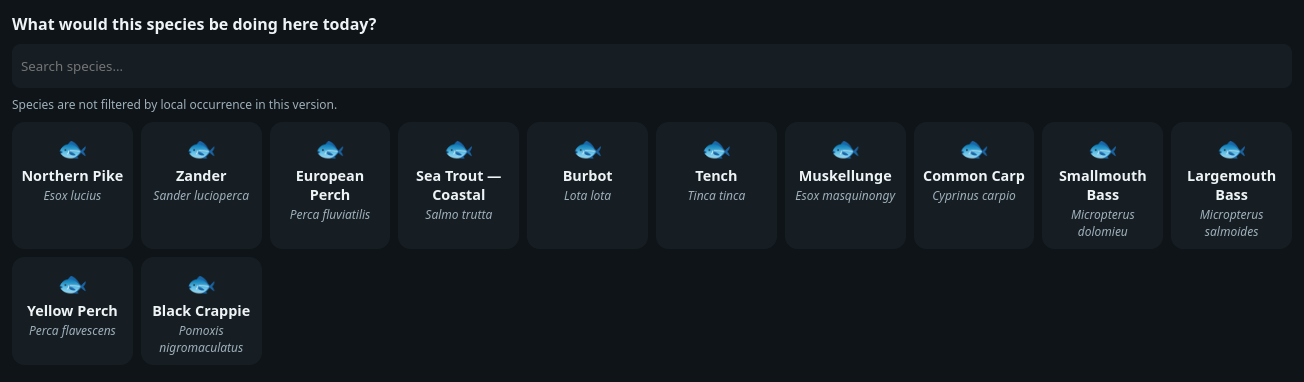
it: SpeciesCatalog › shows an empty state for a query matching nothing
The width and height of the screenshot is (1304, 382).
Type "nonexistent-fish-xyz" into the search field labelled "Search species" at [652, 66], box [12, 44, 1292, 88]
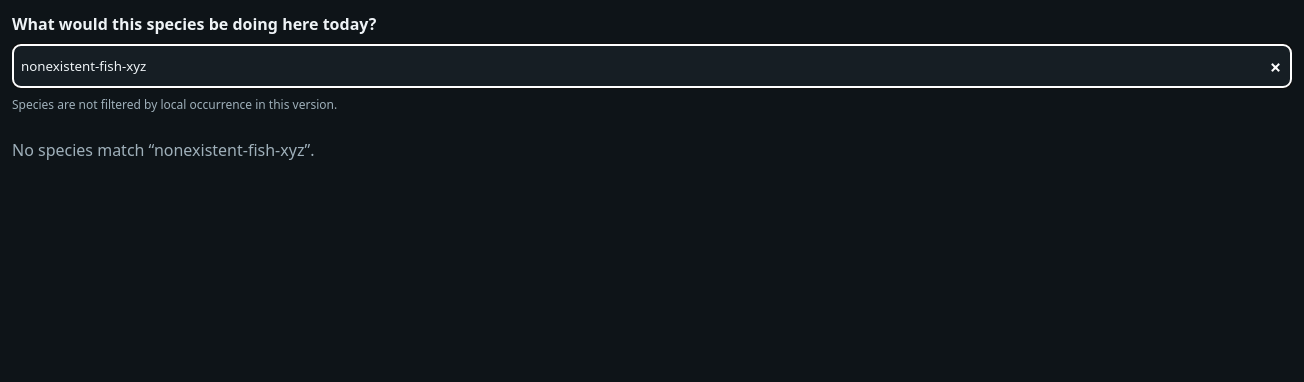
Expected: the text "No species match “nonexistent-fish-xyz”." is shown, [12, 139, 314, 161]
